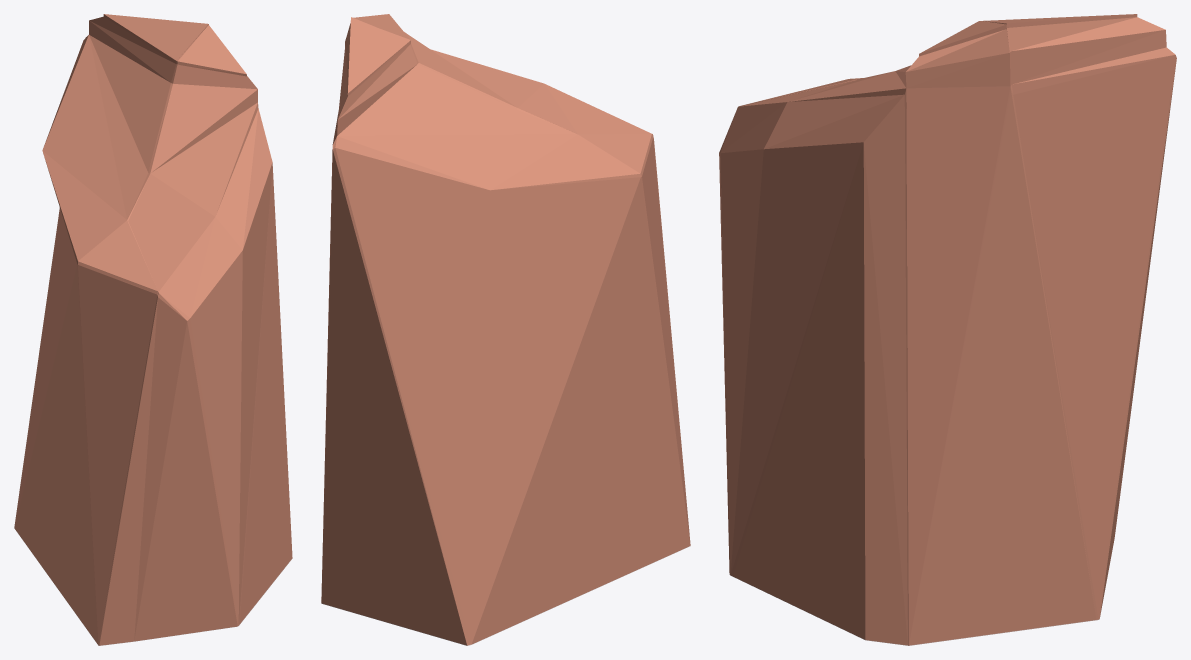
Rendered from Large rock.fbx.
3 renders of one model, left to right at view 1: azimuth 30°, elevation 25°; view 2: azimuth 150°, elevation 25°; view 3: azimuth 270°, elevation 25°, orthographic. The views are drawn at different scales.
Parts seen in each view (by area): view 1: Rock 003; view 2: Rock 003; view 3: Rock 003.
Boxes of the visible parts, x1,y1,x2,y2 form: Rock 003: (14, 14, 292, 645); Rock 003: (321, 14, 690, 645); Rock 003: (719, 14, 1176, 645).
Bounding box in the file's own units: 24.38 × 48.15 × 33.12.
